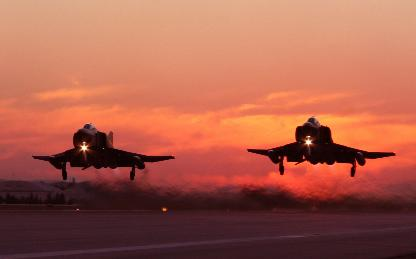F35: (246, 116, 396, 177), (31, 122, 176, 179)
